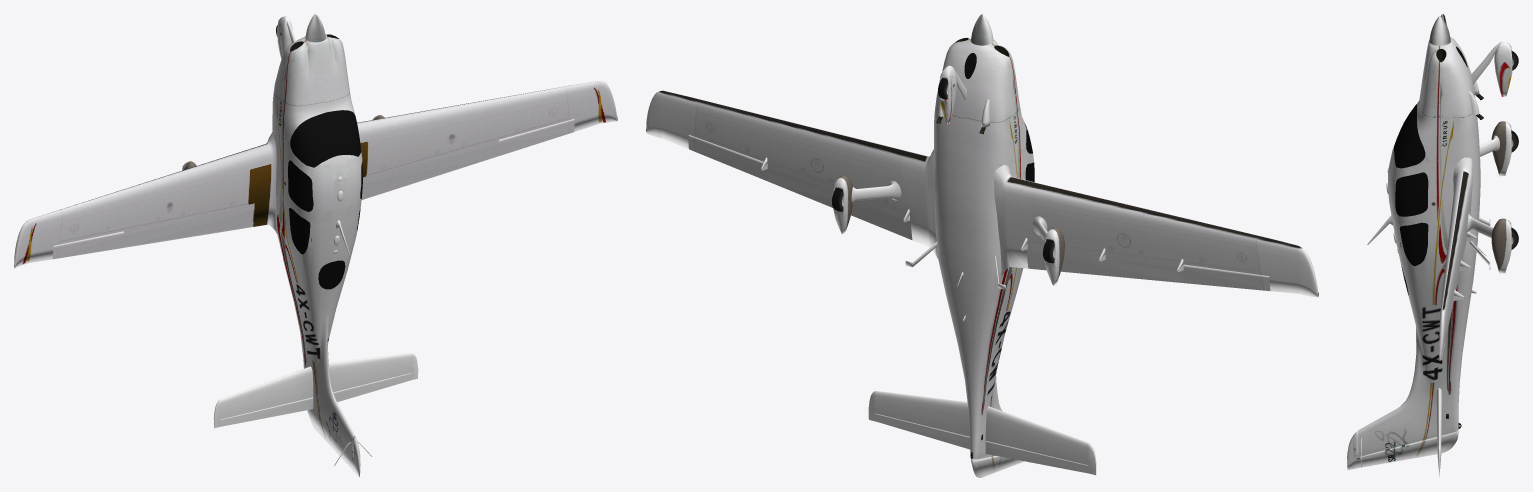
3 views of the same model, side by side, from view 1: azimuth 30°, elevation 25°; view 2: azimuth 150°, elevation 25°; view 3: azimuth 270°, elevation 25° (orthographic). The views are drawn at different scales.
Visible parts, largest first — view 1: ailes_ailes.mesh, fuselage_fuselage.mesh, ailes2_ailes2.mesh, vitres_vitres.mesh, voletD_voletD.mesh, voletG_voletG.mesh, profondeur_profondeur.mesh, porteG_porteG.mesh, aileronD_aileronD.mesh, aileronG_aileronG.mesh, vitreporteG_vitreporteG.mesh, direction_direction.mesh (+1 smaller); view 2: ailes_ailes.mesh, fuselage_fuselage.mesh, ailes2_ailes2.mesh, voletG_voletG.mesh, voletD_voletD.mesh, profondeur_profondeur.mesh, aileronG_aileronG.mesh, aileronD_aileronD.mesh, cacheG_cacheG.mesh, cacheD_cacheD.mesh, axeD_axeD.mesh; view 3: fuselage_fuselage.mesh, ailes_ailes.mesh, vitres_vitres.mesh, porteD_porteD.mesh, direction_direction.mesh, vitreporteD_vitreporteD.mesh, cacheD_cacheD.mesh, cacheG_cacheG.mesh, cacheA_cacheA.mesh, bol_bol.mesh, ailes2_ailes2.mesh, axeD_axeD.mesh (+5 smaller).
Boxes of the visible parts, x1,y1,x2,y2 form: ailes_ailes.mesh: (14,81,617,268); fuselage_fuselage.mesh: (272,34,361,460); ailes2_ailes2.mesh: (221,352,412,419); vitres_vitres.mesh: (289,110,361,289); voletD_voletD.mesh: (361,140,498,199); voletG_voletG.mesh: (123,204,255,247); profondeur_profondeur.mesh: (213,353,418,428); porteG_porteG.mesh: (278,140,335,219); aileronD_aileronD.mesh: (498,119,574,156); aileronG_aileronG.mesh: (52,231,124,259); vitreporteG_vitreporteG.mesh: (288,160,313,211); direction_direction.mesh: (307,409,360,477); ailes_ailes.mesh: (646,90,1318,297); fuselage_fuselage.mesh: (934,37,1033,459); ailes2_ailes2.mesh: (875,391,1088,465); voletG_voletG.mesh: (1021,243,1185,283); voletD_voletD.mesh: (761,163,912,239); profondeur_profondeur.mesh: (868,391,1096,475); aileronG_aileronG.mesh: (1184,264,1270,290); aileronD_aileronD.mesh: (688,134,767,180); cacheG_cacheG.mesh: (1044,227,1064,285); cacheD_cacheD.mesh: (832,175,852,233); axeD_axeD.mesh: (851,181,901,202); fuselage_fuselage.mesh: (1358,37,1480,457); ailes_ailes.mesh: (1439,14,1477,360); vitres_vitres.mesh: (1394,46,1467,294); porteD_porteD.mesh: (1388,154,1449,222); direction_direction.mesh: (1347,430,1458,470); vitreporteD_vitreporteD.mesh: (1395,172,1428,216); cacheD_cacheD.mesh: (1491,218,1511,273); cacheG_cacheG.mesh: (1491,121,1511,176); cacheA_cacheA.mesh: (1494,42,1512,96); bol_bol.mesh: (1429,16,1450,45); ailes2_ailes2.mesh: (1436,388,1442,447); axeD_axeD.mesh: (1467,213,1493,237).
Size of the model in its own units: 11.58 by 7.91 by 2.71.
3 materials, 2 textured.
